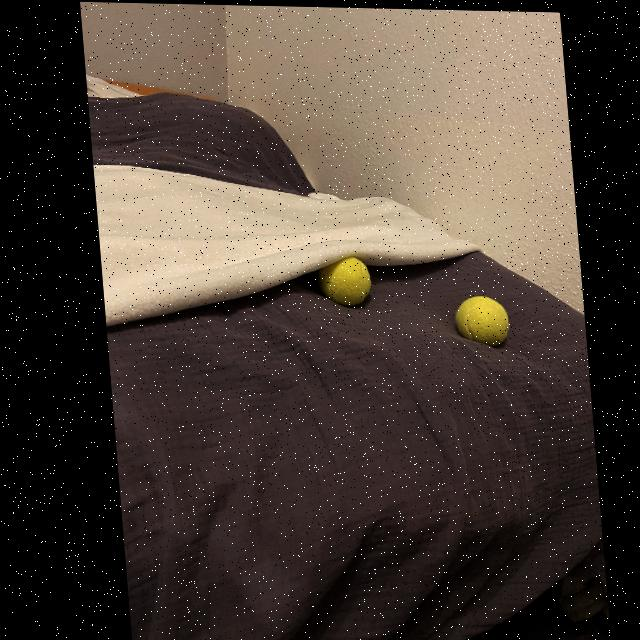Tennisball: (455, 296, 509, 347), (318, 257, 371, 306)
